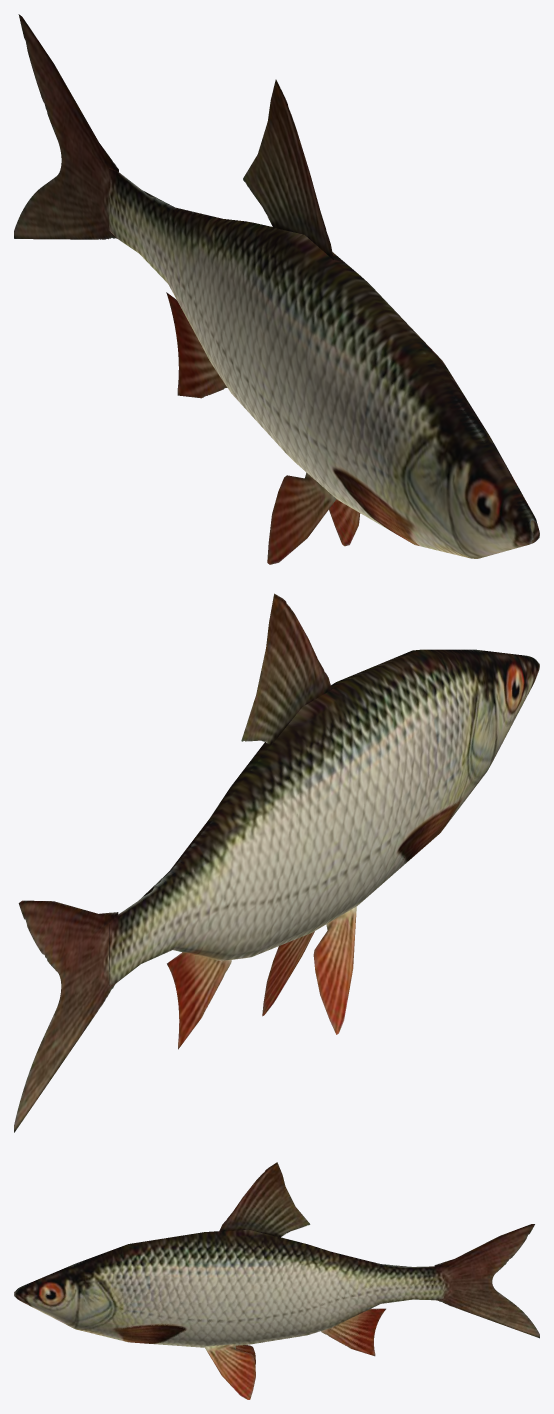
File: sarki-3D-orig.dae
The picture shows the model from 3 angles, top to bottom: view 1: azimuth 30°, elevation 25°; view 2: azimuth 150°, elevation 25°; view 3: azimuth 270°, elevation 25°; orthographic projection. The views are drawn at different scales.
Parts seen in each view (by area): view 1: sarki-all, pyrstoeva, selkaeva, rintaeva (×2), alaperaeva; view 2: sarki-all, pyrstoeva, selkaeva, rintaeva (×2), alaperaeva; view 3: sarki-all, pyrstoeva, selkaeva, rintaeva, alaperaeva.
Part boxes in pixels (left/top/right/bottom): sarki-all: left=108, top=168, right=539, bottom=558; pyrstoeva: left=14, top=14, right=118, bottom=239; selkaeva: left=243, top=79, right=333, bottom=259; rintaeva (×2): left=267, top=472, right=360, bottom=564; alaperaeva: left=166, top=292, right=227, bottom=398; sarki-all: left=109, top=649, right=539, bottom=985; pyrstoeva: left=14, top=900, right=118, bottom=1132; selkaeva: left=241, top=593, right=331, bottom=745; rintaeva (×2): left=262, top=906, right=356, bottom=1034; alaperaeva: left=167, top=952, right=231, bottom=1049; sarki-all: left=14, top=1229, right=443, bottom=1347; pyrstoeva: left=434, top=1224, right=539, bottom=1338; selkaeva: left=219, top=1162, right=310, bottom=1237; rintaeva: left=204, top=1344, right=255, bottom=1399; alaperaeva: left=321, top=1308, right=385, bottom=1356.
Bounding box in the file's own units: 0.9022 × 9.9 × 4.75.
Materials: 1 (1 with a texture image).
